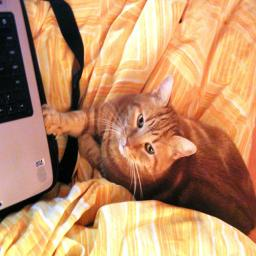catnose: (125, 136, 131, 150)
